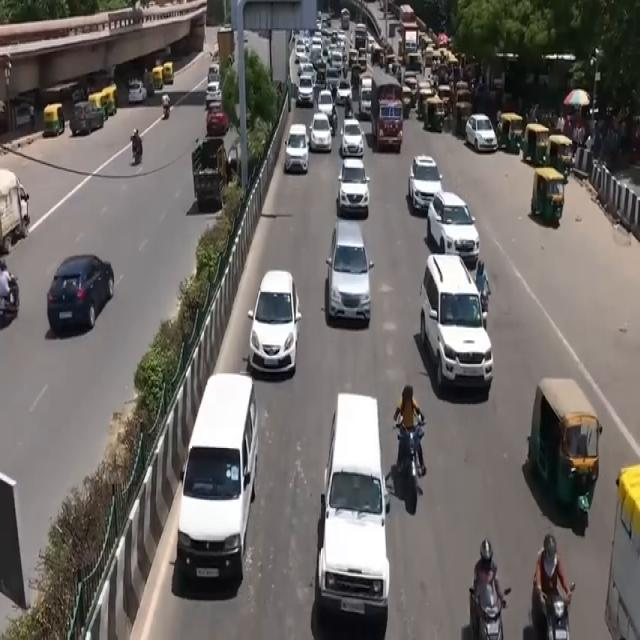MOTORCYCLE: (396, 426, 426, 520), (539, 589, 576, 640), (478, 600, 506, 640)
TRUCK: (0, 171, 30, 258), (369, 75, 402, 152)
